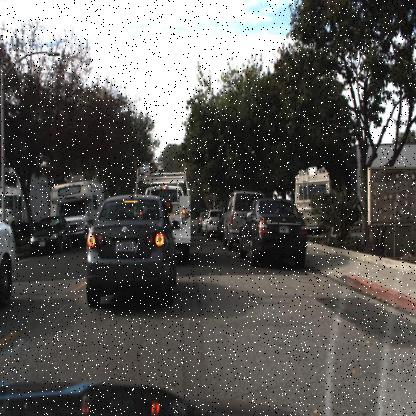car: (84, 192, 178, 312), (236, 197, 308, 269), (164, 162, 197, 270), (222, 190, 266, 253), (48, 170, 96, 220), (27, 211, 71, 258), (0, 214, 16, 316), (200, 207, 223, 240), (215, 199, 227, 245)
truck: (140, 180, 194, 259), (0, 166, 49, 244), (50, 175, 103, 247), (0, 166, 51, 240), (293, 166, 337, 244)
